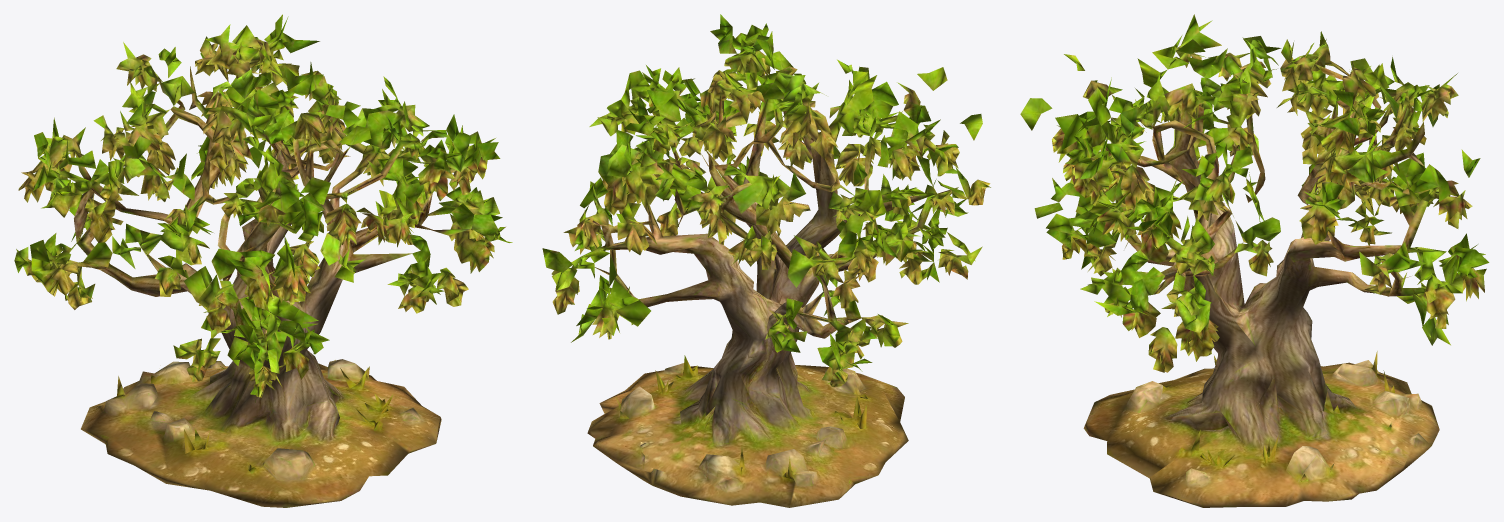
Rendered from kit_pistachio.glb.
3 renders of one model, left to right at view 1: azimuth 30°, elevation 25°; view 2: azimuth 150°, elevation 25°; view 3: azimuth 270°, elevation 25°, orthographic. The views are drawn at different scales.
Parts seen in each view (by area): view 1: Mesh1.0; view 2: Mesh1.0; view 3: Mesh1.0.
Part boxes in pixels (x1,y1,x2,y2): Mesh1.0: (14,14,512,507); Mesh1.0: (542,14,990,507); Mesh1.0: (1020,14,1489,507).
Bounding box in the file's own units: 5.33 × 5 × 5.36.
Materials: 1 (1 with a texture image).
